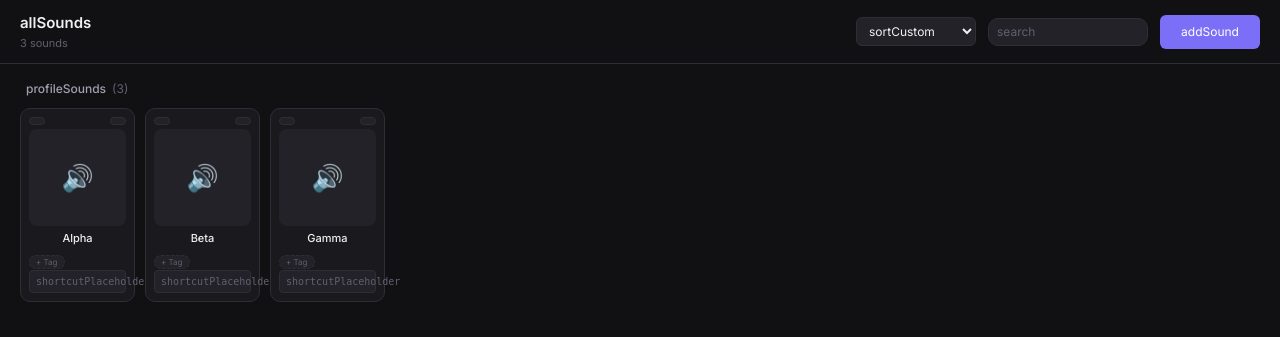
Test: Home › recherche › devrait afficher le message de recherche
The width and height of the screenshot is (1280, 337).
Type "Alpha" into the field with test id "search-input".
click(1068, 32); type("Alpha")  # box [988,18,1148,46]
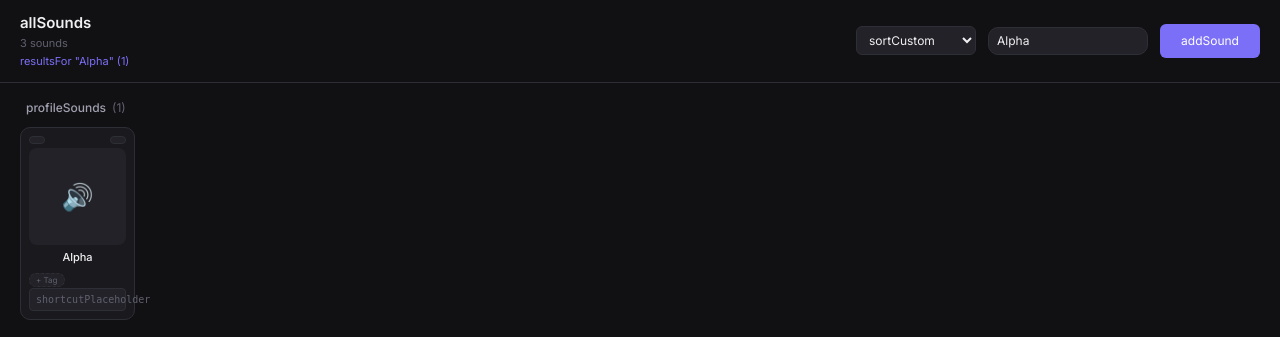
Check: the text "resultsFor \"Alpha\" (1)" is shown, box [20,54,129,68]
